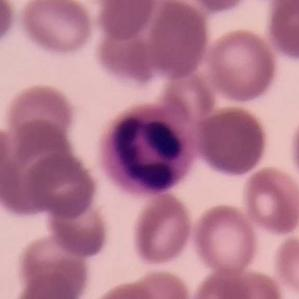Neutrophil: (98, 100, 202, 199)
RBC: (90, 0, 201, 86), (1, 117, 77, 218), (204, 26, 280, 105), (13, 227, 94, 298), (194, 104, 270, 178), (144, 0, 211, 81), (189, 201, 260, 276), (22, 151, 98, 220), (2, 80, 79, 148), (129, 190, 196, 268), (17, 0, 97, 58), (239, 163, 299, 237), (44, 193, 111, 259), (187, 264, 285, 299), (92, 0, 158, 43), (120, 267, 194, 299), (264, 0, 299, 63), (8, 271, 85, 299), (271, 231, 299, 299), (86, 279, 162, 299), (175, 0, 259, 13), (287, 108, 299, 192), (0, 0, 18, 52)
